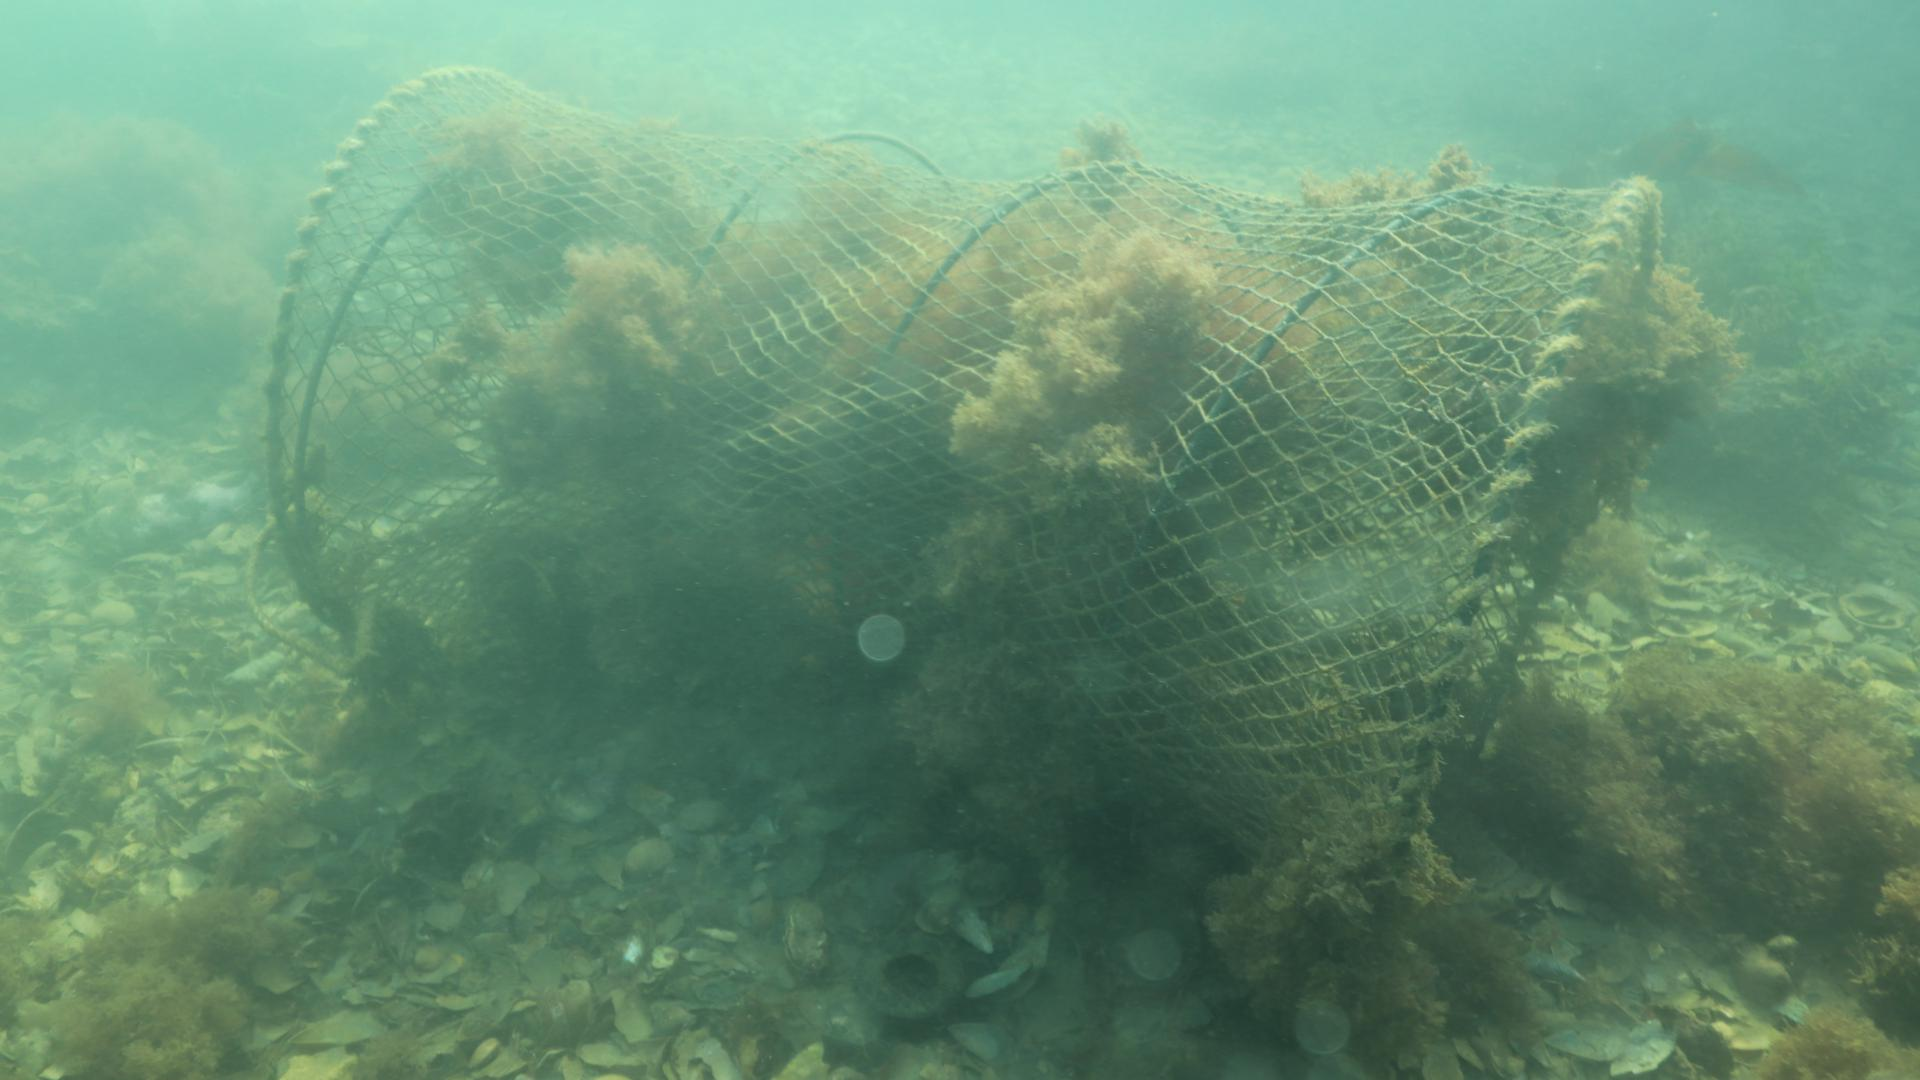spring fish trap: (261, 63, 1667, 922)
